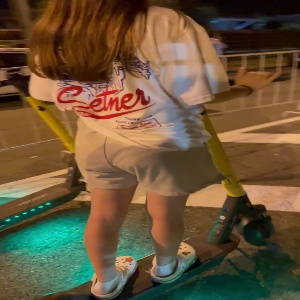human on a scooter: (1, 1, 294, 300)
